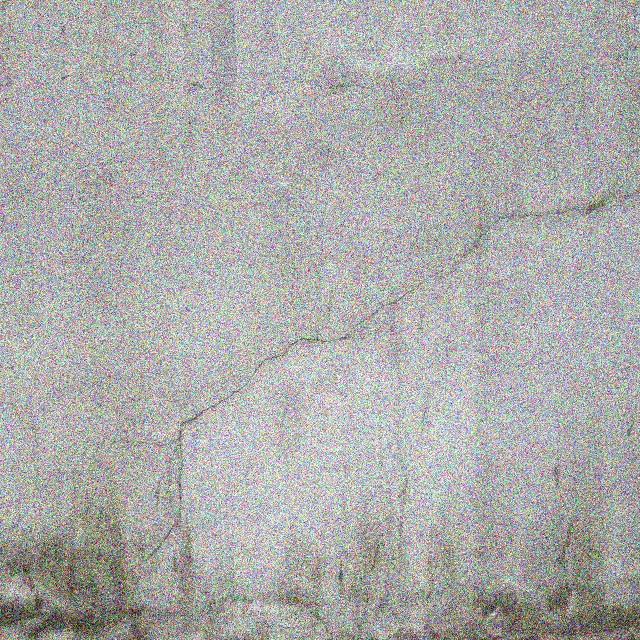SurfaceCrack: (117, 143, 640, 486)
